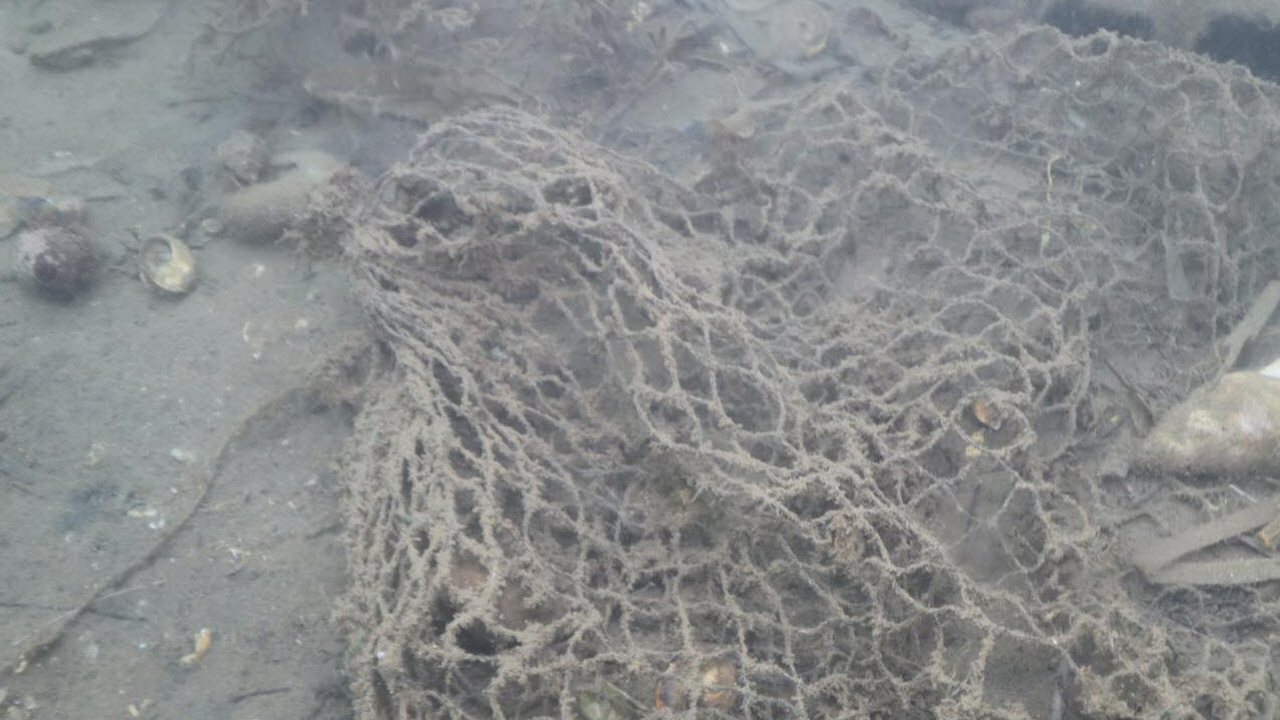fish net: (341, 23, 1280, 720)
